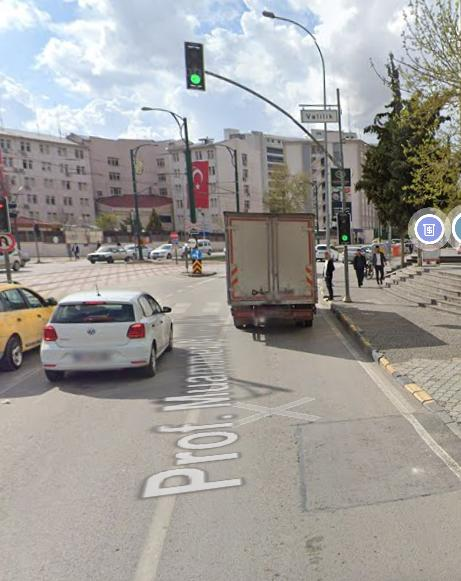greenlight: (187, 43, 205, 89), (340, 212, 351, 244)
